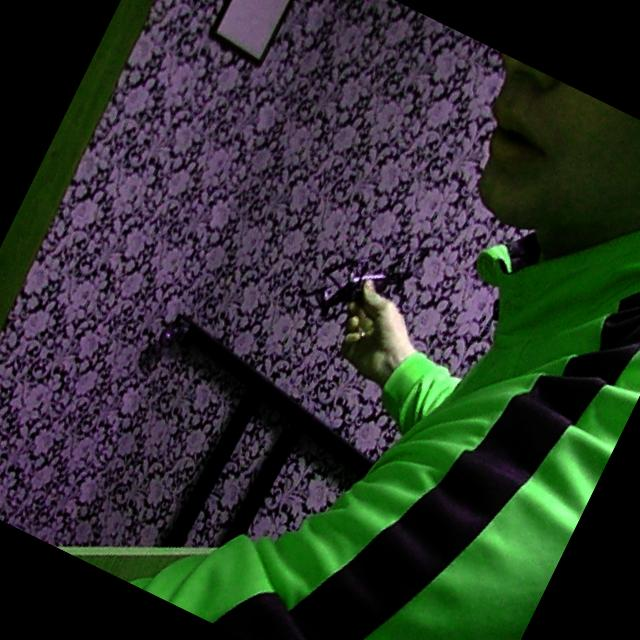drone: (296, 202, 436, 348)
